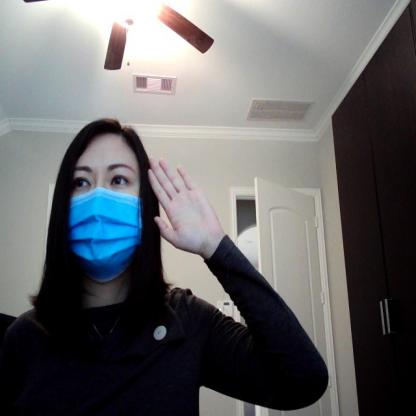hello: (144, 149, 224, 261)
